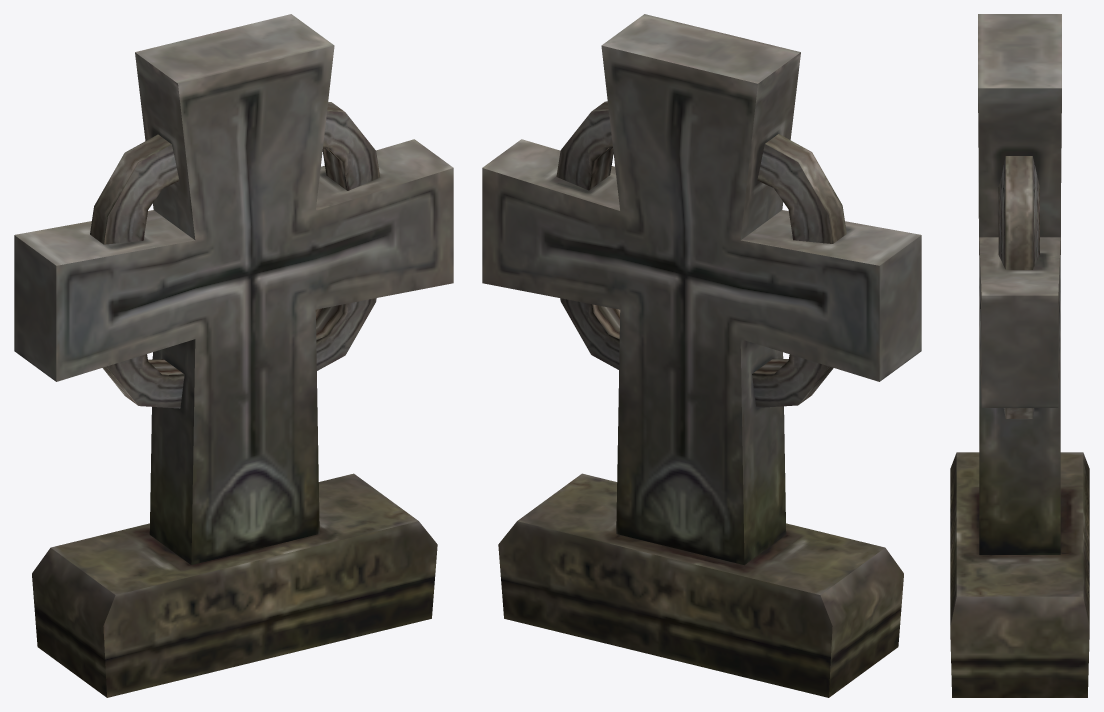
File: DN_1_4_szj.FBX
3 renders of one model, left to right at view 1: azimuth 30°, elevation 25°; view 2: azimuth 150°, elevation 25°; view 3: azimuth 270°, elevation 25°, orthographic. The views are drawn at different scales.
Visible parts, largest first — view 1: DN_1_4_szj; view 2: DN_1_4_szj; view 3: DN_1_4_szj.
Part boxes in pixels (bbox=[...]): DN_1_4_szj: bbox=[14, 14, 453, 697]; DN_1_4_szj: bbox=[482, 14, 921, 697]; DN_1_4_szj: bbox=[950, 14, 1089, 697].
Bounding box in the file's own units: 25.93 × 36.28 × 8.06.
